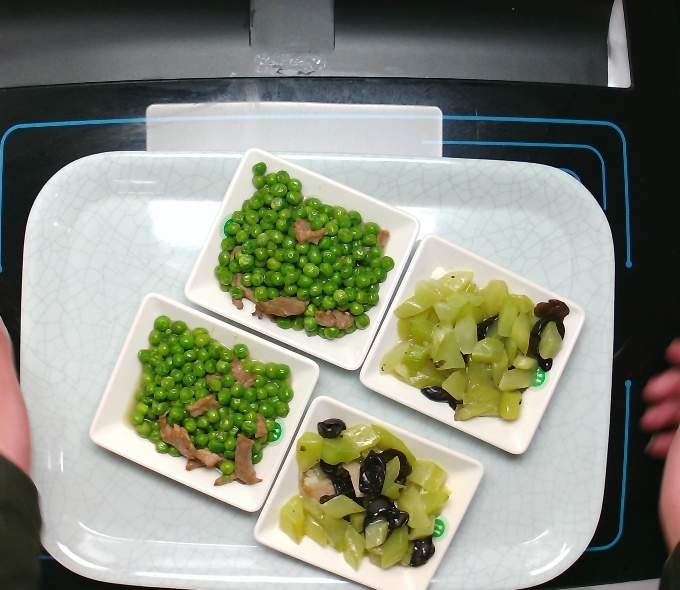wcq-CanDouRouSi: (212, 159, 396, 339), (126, 315, 296, 488)
wcq-WoSunKuai: (367, 264, 574, 439), (276, 408, 458, 579)
